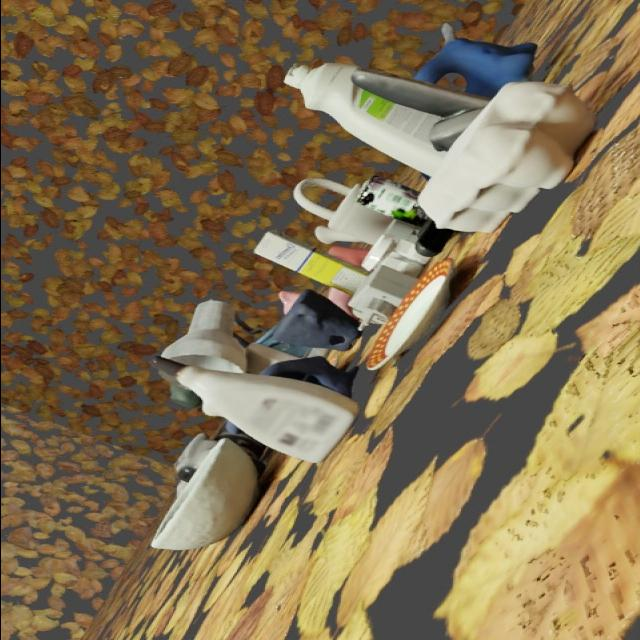Other Objects: (420, 82, 593, 231), (287, 63, 485, 177), (176, 364, 356, 462), (151, 439, 257, 549), (365, 258, 452, 369), (413, 37, 535, 97), (293, 178, 391, 244), (271, 290, 359, 350), (349, 265, 416, 323), (356, 176, 423, 222), (173, 433, 215, 483)
